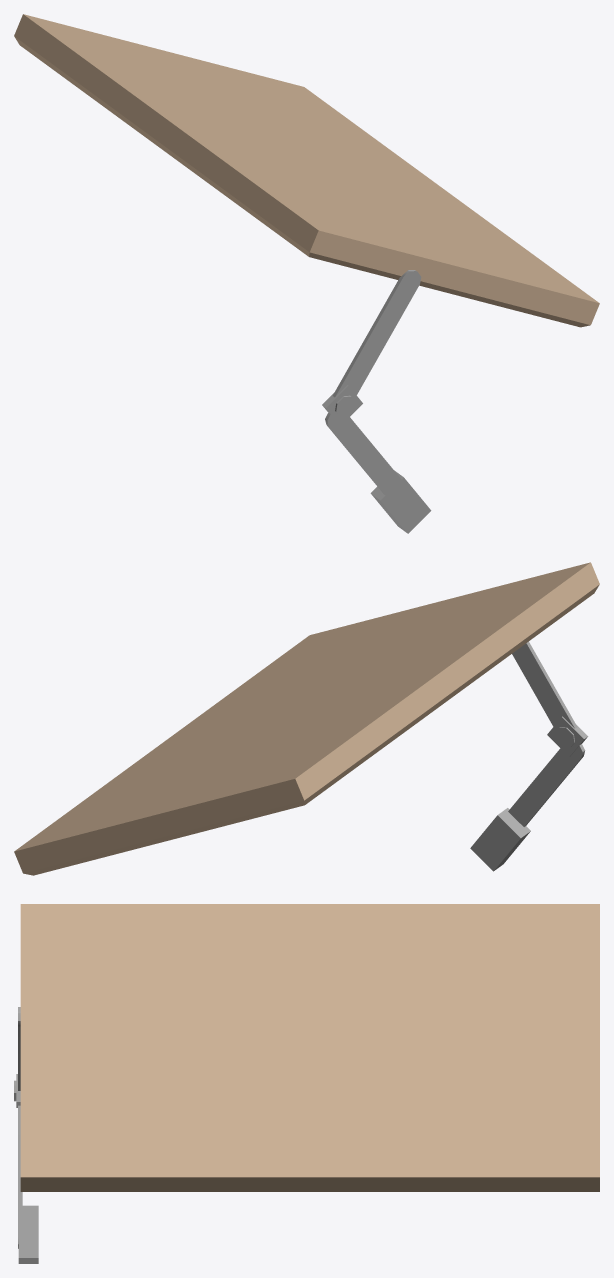
File: window_open.fbx
3 renders of one model, top to bottom at view 1: azimuth 30°, elevation 25°; view 2: azimuth 150°, elevation 25°; view 3: azimuth 270°, elevation 25°, orthographic. The views are drawn at different scales.
Visible parts, largest first — view 1: pCube374, pCube381; view 2: pCube374, pCube381; view 3: pCube374, pCube381.
Part boxes in pixels (bbox=[...]): pCube374: bbox=[14, 14, 599, 327]; pCube381: bbox=[322, 270, 431, 533]; pCube374: bbox=[14, 562, 599, 875]; pCube381: bbox=[470, 641, 587, 871]; pCube374: bbox=[20, 904, 599, 1191]; pCube381: bbox=[14, 1007, 38, 1263].
Bounding box in the file's own units: 13.71 × 14.63 × 24.47.
